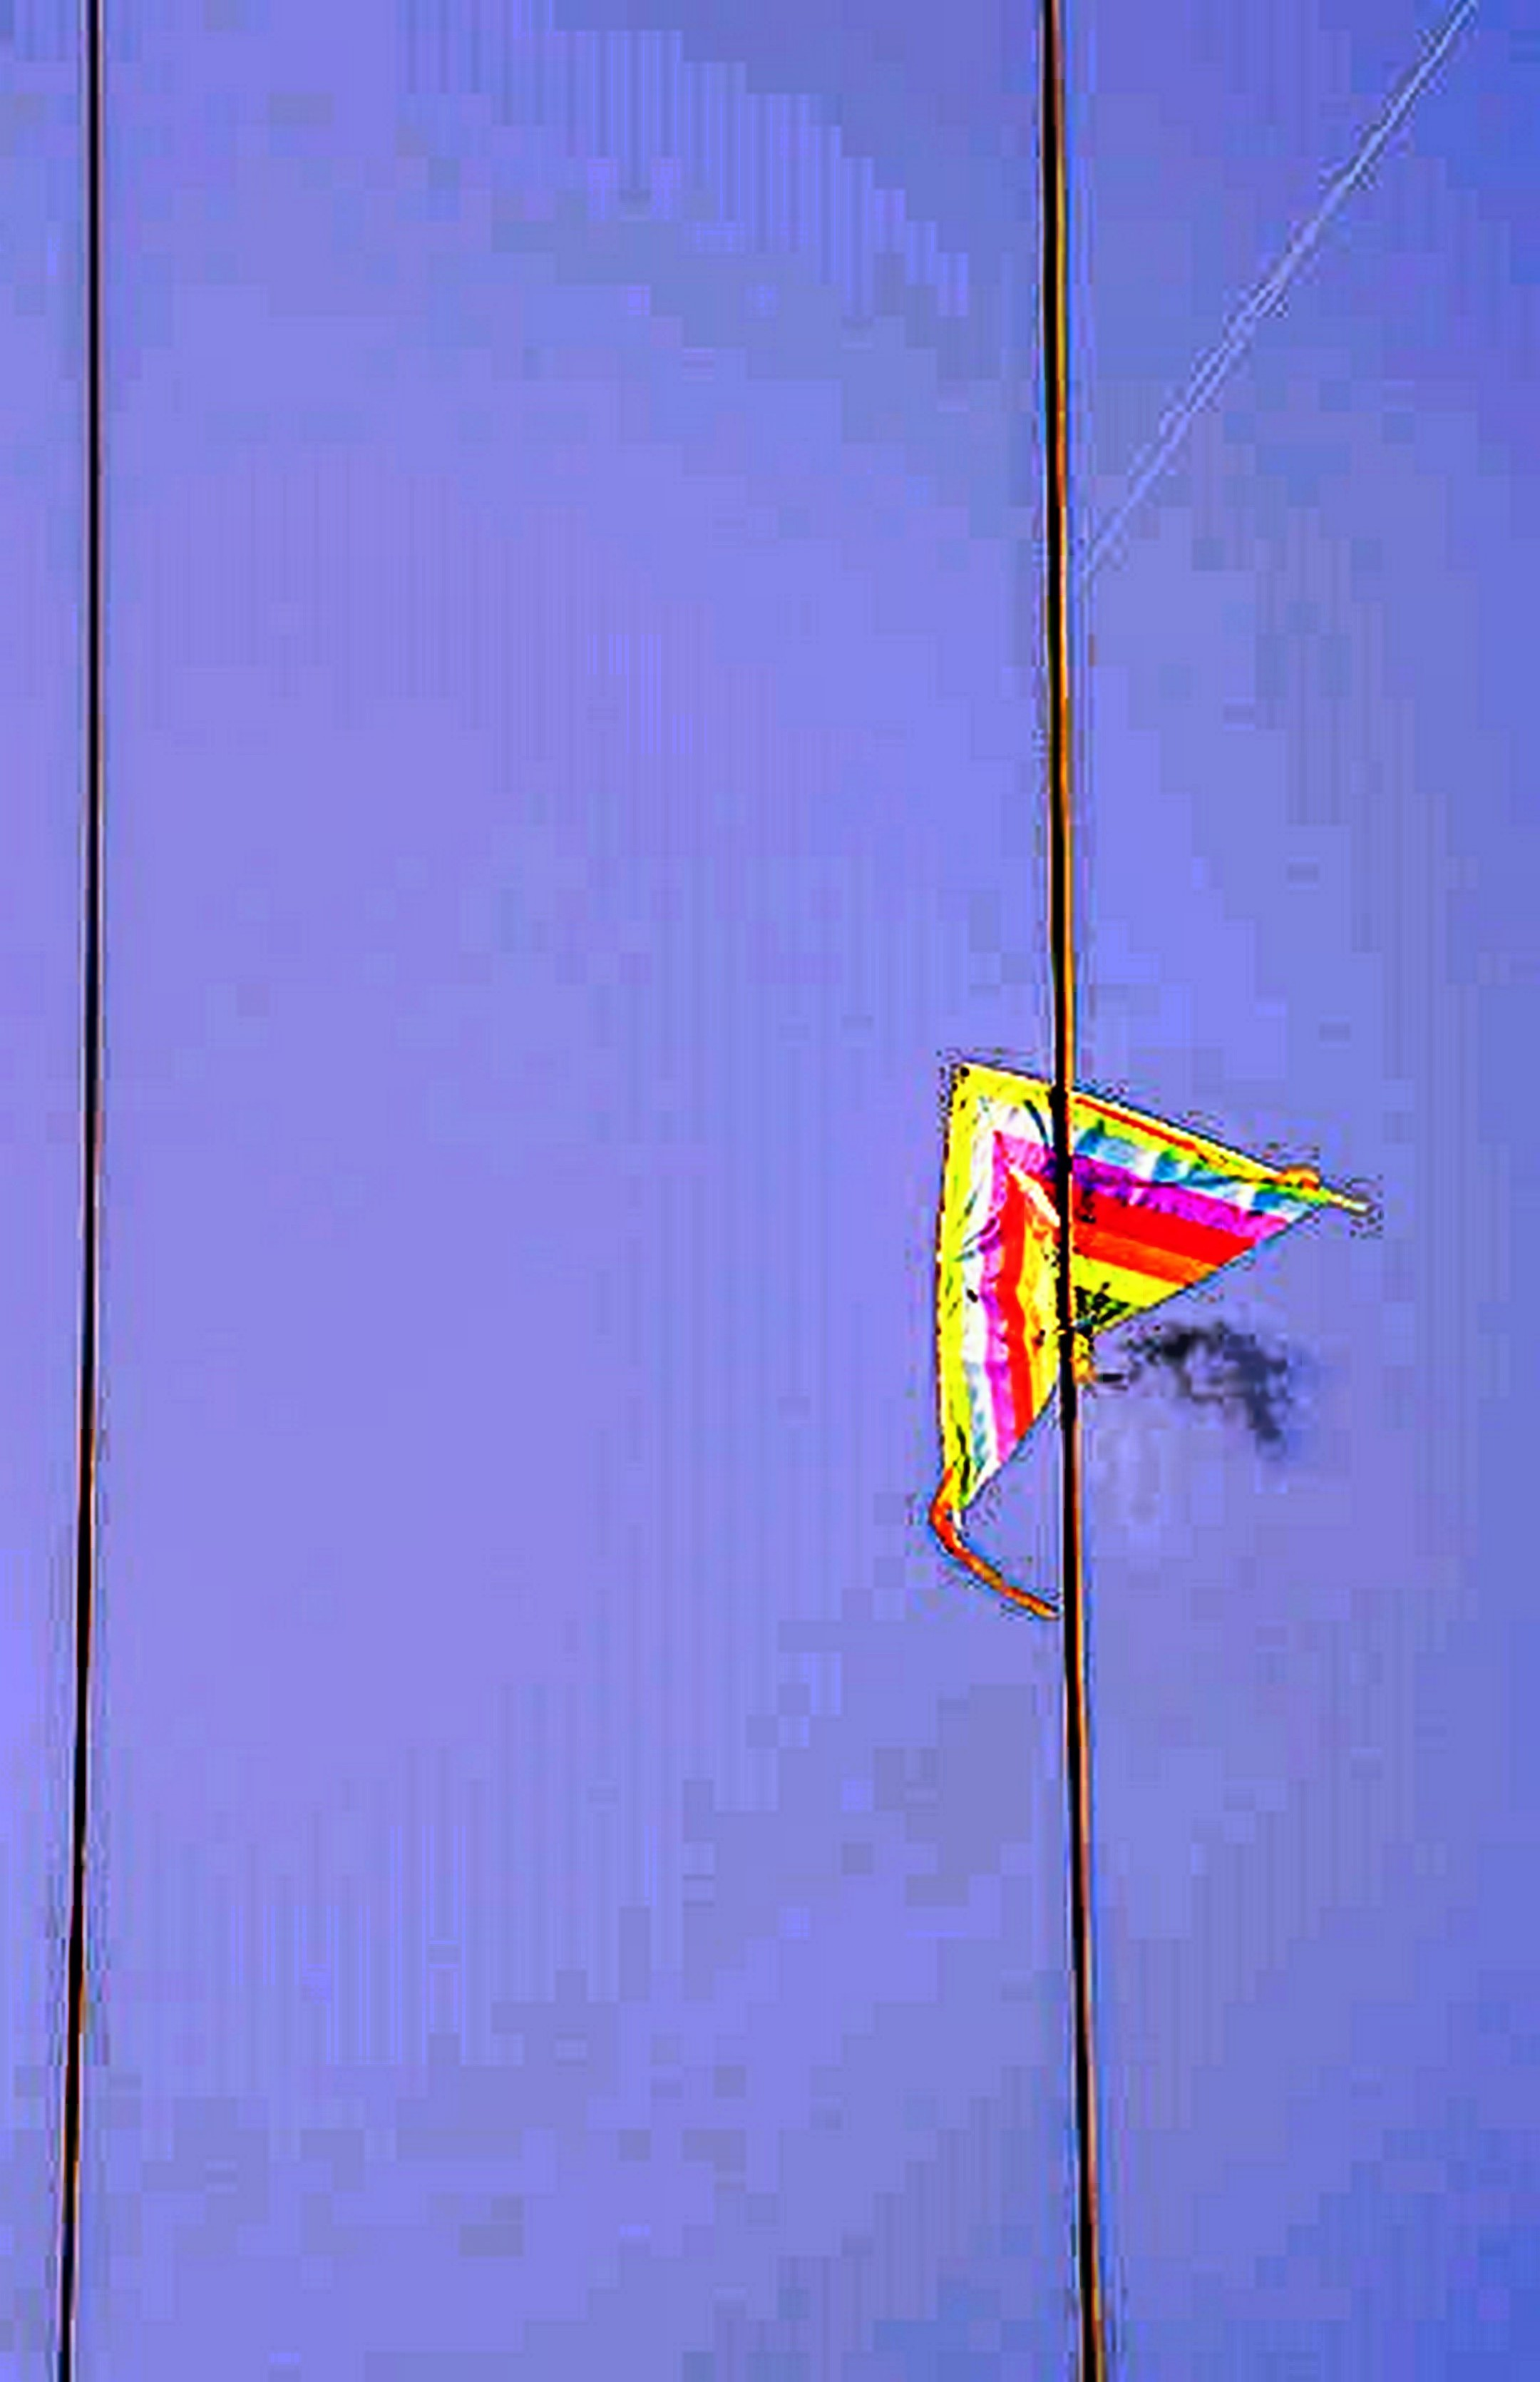wire foreign body: (781, 991, 1417, 1639)
